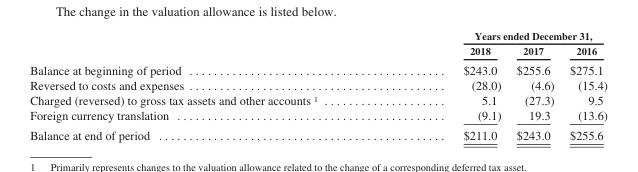table: (29, 29, 606, 141)
table column: (29, 29, 389, 141), (389, 29, 508, 141), (508, 29, 561, 141), (561, 29, 606, 141)
table column header: (29, 29, 606, 59)
table row: (29, 59, 606, 77), (29, 42, 606, 59), (29, 107, 606, 124), (29, 124, 606, 141), (29, 77, 606, 92), (29, 92, 606, 107), (29, 29, 606, 42)
table spanning cell: (389, 29, 606, 42)
